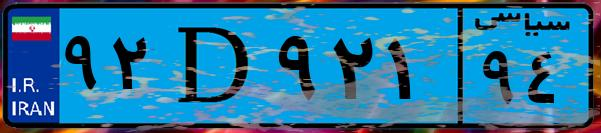1: (385, 28, 445, 110)
2: (330, 28, 385, 110), (110, 28, 158, 98)
4: (525, 38, 570, 115)
9: (270, 28, 330, 110), (57, 26, 110, 100), (475, 38, 525, 113)
D: (158, 12, 270, 120)
